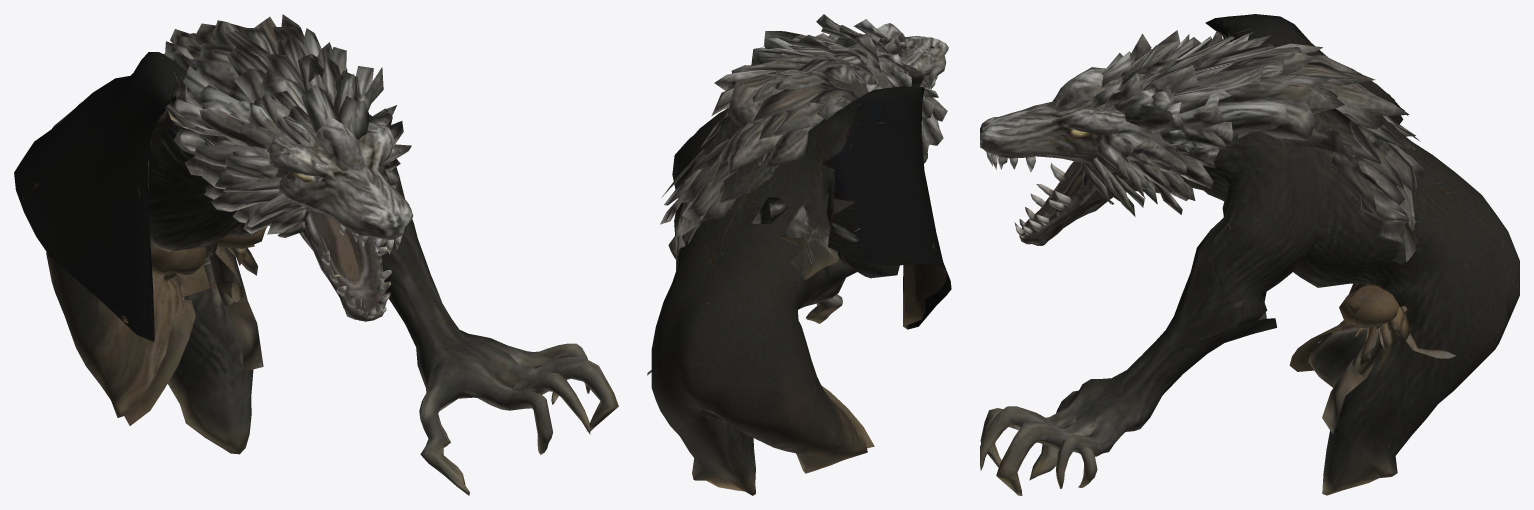
Rendered from werewolf.glb.
3 renders of one model, left to right at view 1: azimuth 30°, elevation 25°; view 2: azimuth 150°, elevation 25°; view 3: azimuth 270°, elevation 25°, orthographic. The views are drawn at different scales.
Size of the model in its own units: 0.882 by 0.8884 by 1.
Materials: 1 (1 with a texture image).
